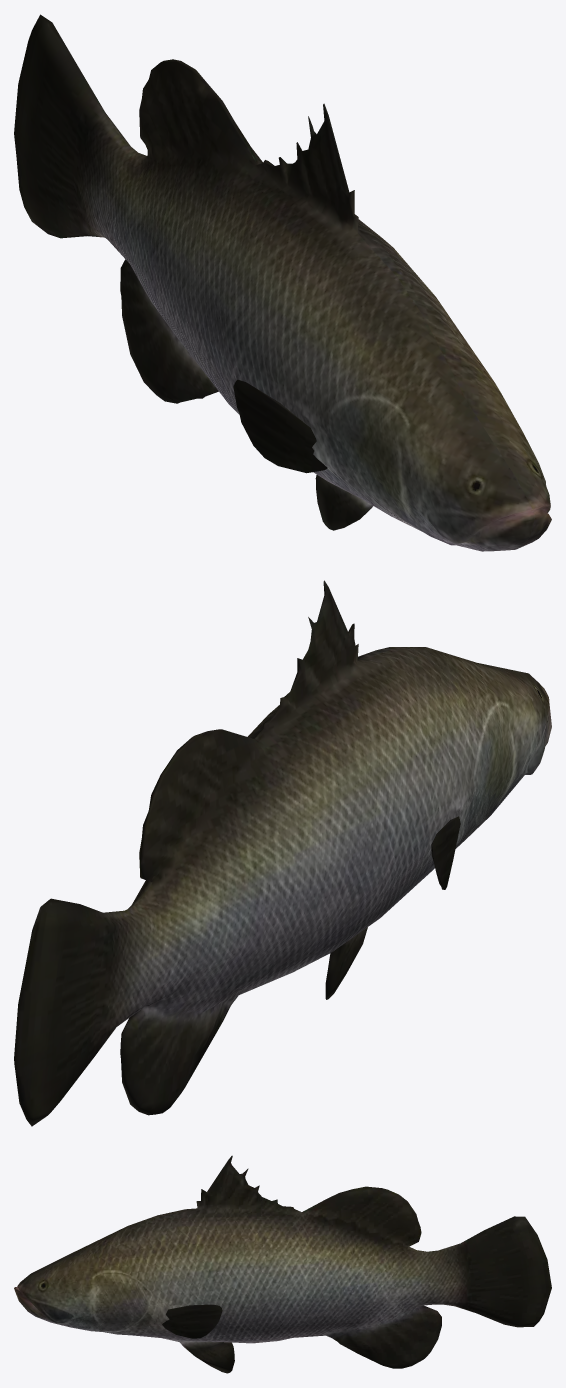
Rendered from fish.glb.
3 views of the same model, one above another, from view 1: azimuth 30°, elevation 25°; view 2: azimuth 150°, elevation 25°; view 3: azimuth 270°, elevation 25° (orthographic). The views are drawn at different scales.
Parts seen in each view (by area): view 1: BarramundiFish; view 2: BarramundiFish; view 3: BarramundiFish.
Boxes of the visible parts, left/top/right/bottom form: BarramundiFish: left=14, top=14, right=551, bottom=551; BarramundiFish: left=14, top=580, right=551, bottom=1126; BarramundiFish: left=14, top=1155, right=551, bottom=1373.
Bounding box in the file's own units: 0.1426 × 0.2875 × 0.6431.
Materials: 1 (1 with a texture image).
